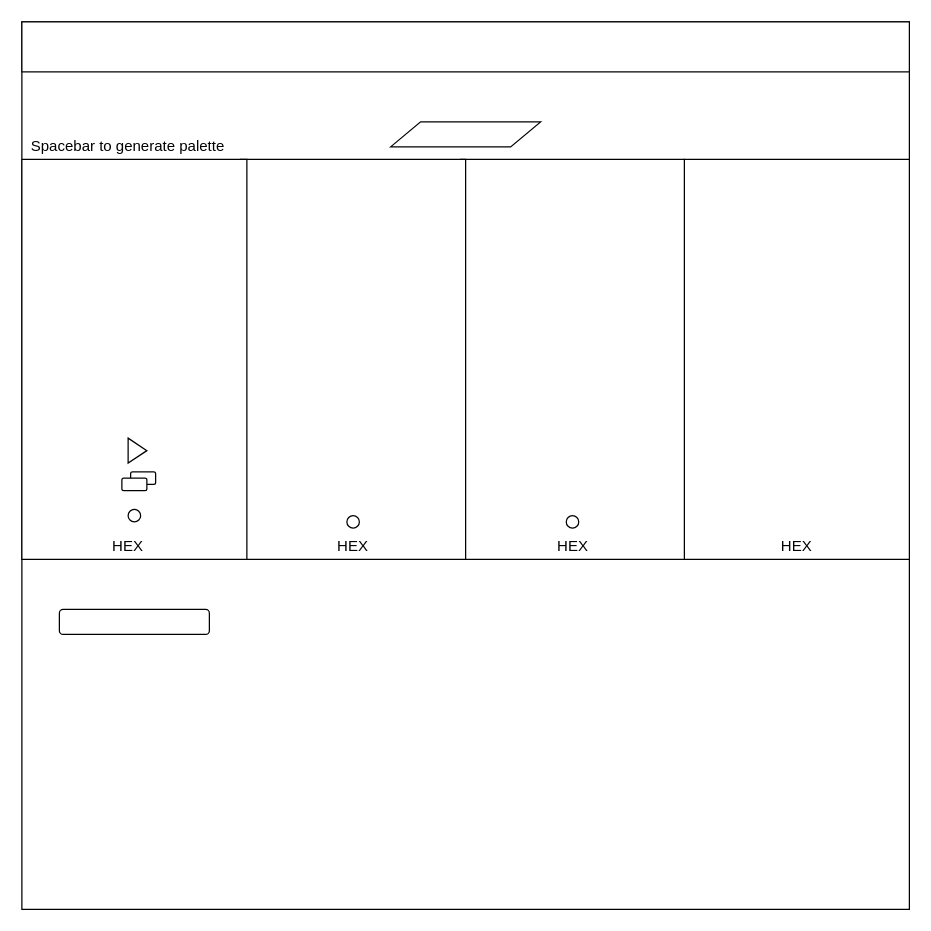
The diagram is 931 pixels wide and 931 high, and some of its shapes have lost their labels. The centre of each missing label's shape, as x and y in pixels:
Input: (x=133, y=621)
Random: (x=465, y=134)
